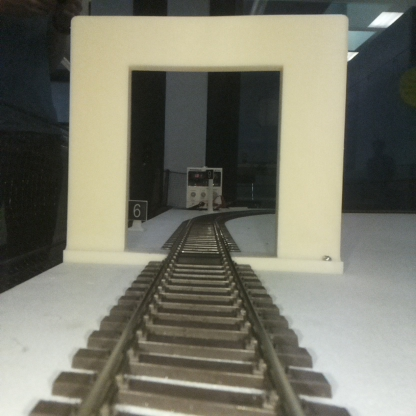black-stop-6: (128, 200, 146, 229)
